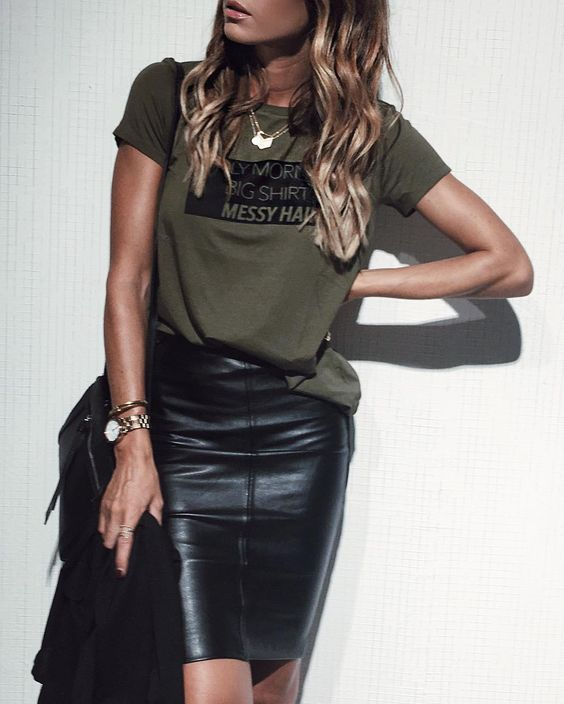cuero: (48, 328, 359, 663)
